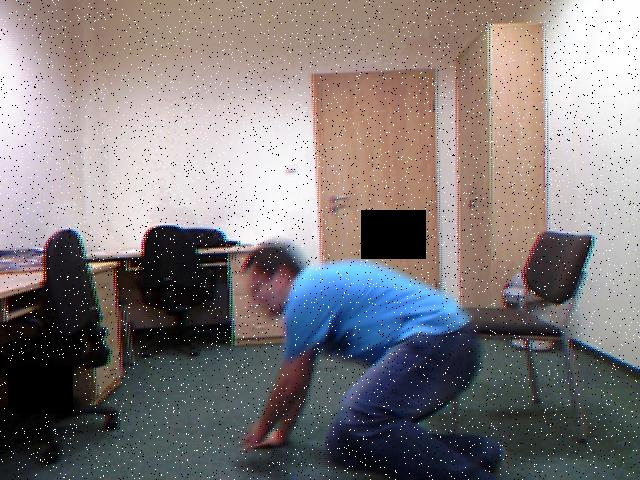fall: (235, 225, 512, 480)
